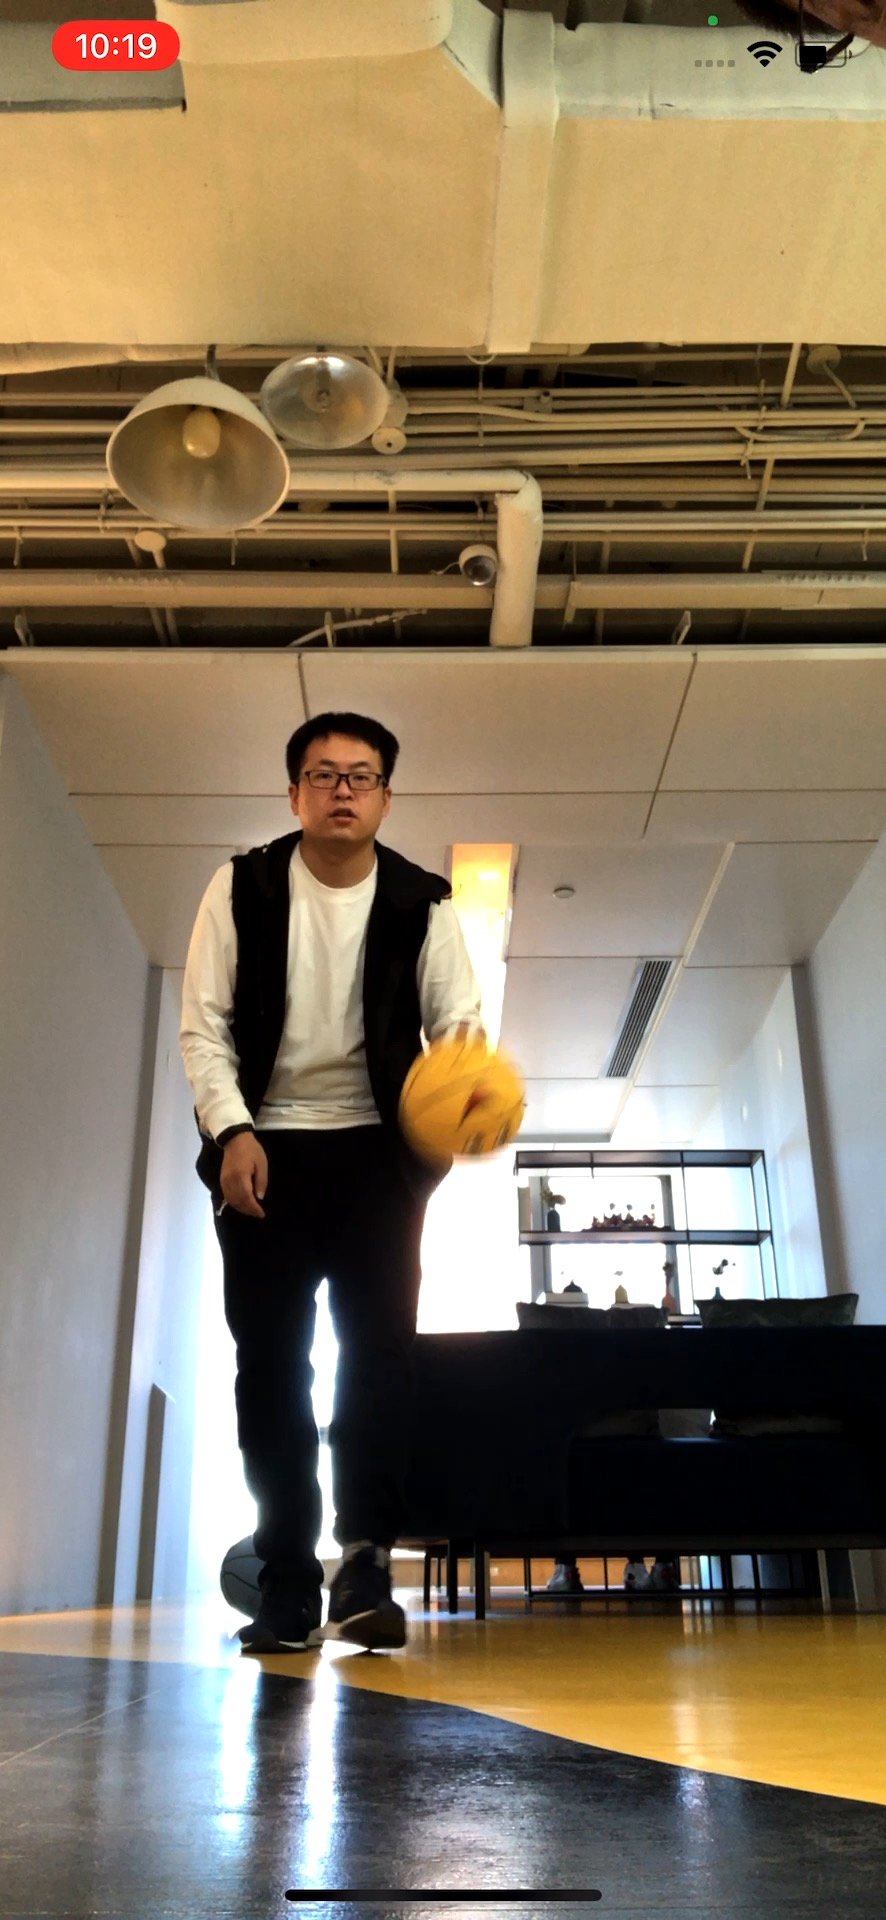ball: (396, 1031, 531, 1164)
